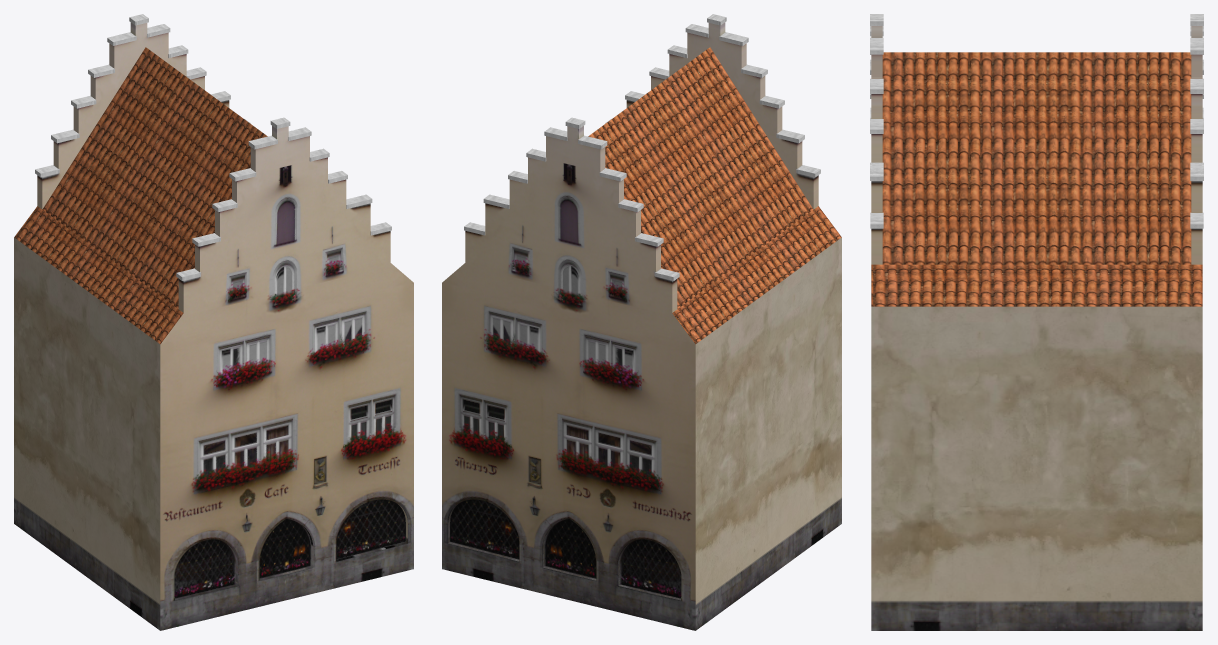
File: old_city_giebelhaus1.obj
3 views of the same model, side by side, from view 1: azimuth 30°, elevation 25°; view 2: azimuth 150°, elevation 25°; view 3: azimuth 270°, elevation 25° (orthographic). The views are drawn at different scales.
Parts seen in each view (by area): view 1: old_city_giebelhaus_1; view 2: old_city_giebelhaus_1; view 3: old_city_giebelhaus_1.
Part boxes in pixels (x1,y1,x2,y2): old_city_giebelhaus_1: (14,14,413,630); old_city_giebelhaus_1: (442,14,841,630); old_city_giebelhaus_1: (870,14,1203,630).
Size of the model in its own units: 5.27 by 9.49 by 5.3.
Materials: 1 (1 with a texture image).
